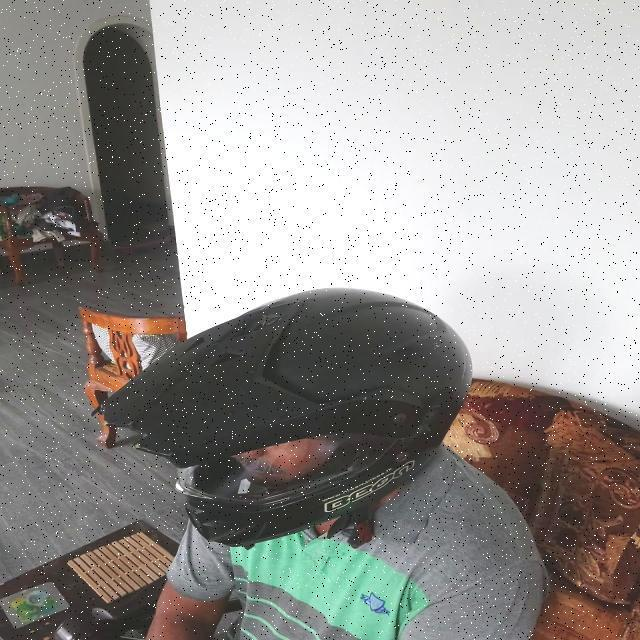helmet: (98, 290, 474, 548)
